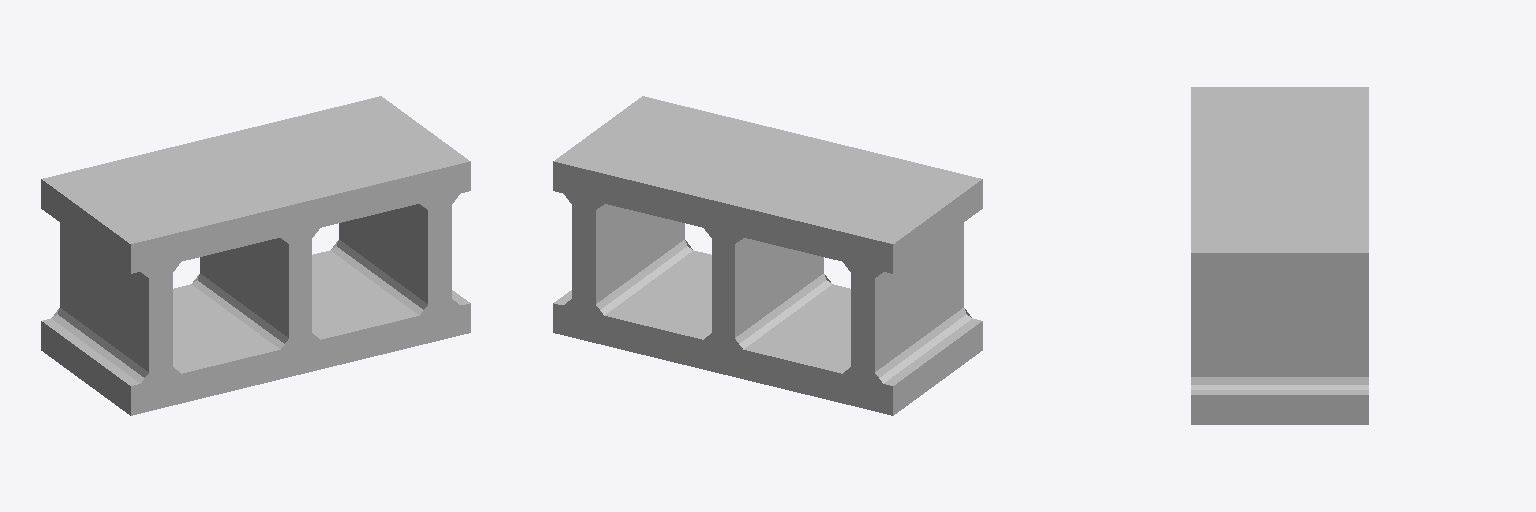
Rendered from CinderBlock.obj.
The picture shows the model from 3 angles: view 1: azimuth 30°, elevation 25°; view 2: azimuth 150°, elevation 25°; view 3: azimuth 270°, elevation 25°; orthographic projection.
Parts seen in each view (by area): view 1: CinderBlock_Cube.042; view 2: CinderBlock_Cube.042; view 3: CinderBlock_Cube.042.
Part boxes in pixels (x1,y1,x2,y2): CinderBlock_Cube.042: (41, 96, 470, 415); CinderBlock_Cube.042: (553, 96, 982, 415); CinderBlock_Cube.042: (1191, 87, 1368, 424).
Bounding box in the file's own units: 0.4716 × 0.2274 × 0.2145.